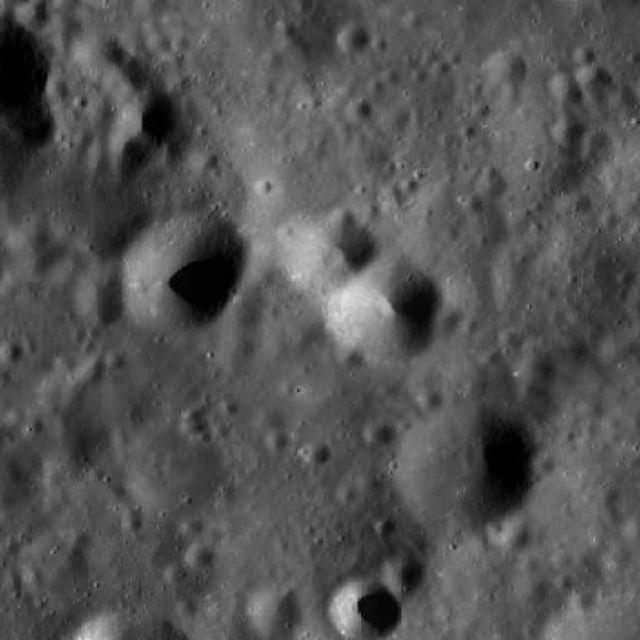crater: (394, 402, 536, 536), (116, 207, 247, 330), (324, 250, 442, 362), (0, 373, 112, 484), (126, 425, 225, 518), (281, 208, 377, 297), (17, 535, 94, 608), (116, 82, 186, 150), (330, 575, 401, 640), (2, 219, 64, 278), (73, 265, 135, 323), (67, 27, 126, 82), (246, 586, 302, 640), (446, 266, 500, 319), (100, 52, 154, 102), (277, 304, 325, 350), (44, 246, 92, 291), (380, 552, 426, 596), (213, 324, 258, 366), (220, 286, 262, 328), (344, 140, 388, 180), (492, 510, 532, 550), (468, 207, 508, 246), (603, 330, 640, 372), (508, 568, 547, 604), (107, 124, 144, 160), (520, 351, 557, 387), (492, 50, 528, 86), (577, 62, 611, 95), (550, 72, 584, 105), (431, 307, 464, 338), (556, 188, 589, 218), (16, 0, 50, 28), (74, 352, 105, 382), (519, 378, 550, 408), (50, 8, 81, 37), (381, 104, 412, 133), (338, 24, 368, 53), (554, 119, 584, 148), (85, 92, 116, 120), (336, 342, 366, 370), (608, 83, 637, 111), (132, 0, 166, 22), (364, 421, 392, 447), (260, 330, 288, 356), (563, 337, 591, 363), (478, 173, 506, 199), (112, 156, 140, 182), (600, 544, 626, 570), (186, 543, 212, 569), (304, 440, 330, 466), (256, 406, 282, 431), (85, 146, 110, 172), (146, 32, 172, 57), (183, 413, 208, 438), (121, 25, 145, 50), (44, 73, 70, 96), (418, 388, 444, 410), (346, 98, 372, 120), (382, 184, 406, 207), (584, 130, 608, 153), (573, 588, 598, 610), (0, 338, 22, 362), (190, 148, 213, 170), (261, 50, 284, 72), (515, 550, 537, 572), (24, 572, 46, 594), (358, 470, 380, 492), (332, 206, 354, 228), (500, 86, 522, 108), (574, 44, 596, 66), (534, 454, 556, 474), (583, 89, 605, 109), (621, 515, 640, 538), (166, 563, 187, 583), (105, 348, 126, 368), (176, 597, 196, 617), (182, 516, 202, 536), (266, 430, 286, 450), (6, 406, 26, 426), (54, 353, 74, 373), (52, 30, 72, 50), (277, 20, 297, 40), (338, 483, 358, 502), (462, 195, 482, 214), (163, 53, 183, 72), (600, 485, 620, 503), (601, 210, 621, 228), (584, 400, 604, 418), (142, 18, 162, 36), (376, 515, 394, 534), (402, 175, 420, 194), (552, 572, 570, 590), (442, 224, 460, 242), (382, 68, 400, 86), (159, 153, 178, 170), (68, 530, 86, 547), (460, 316, 478, 333), (618, 268, 637, 284), (276, 377, 293, 394), (499, 329, 516, 346), (222, 398, 240, 414), (612, 384, 628, 402), (472, 102, 490, 118), (405, 12, 423, 28), (362, 202, 380, 218), (0, 489, 14, 509), (486, 520, 503, 536), (24, 418, 41, 434), (483, 350, 500, 366), (367, 78, 384, 94), (126, 518, 142, 534), (295, 0, 315, 12), (0, 396, 11, 412)
